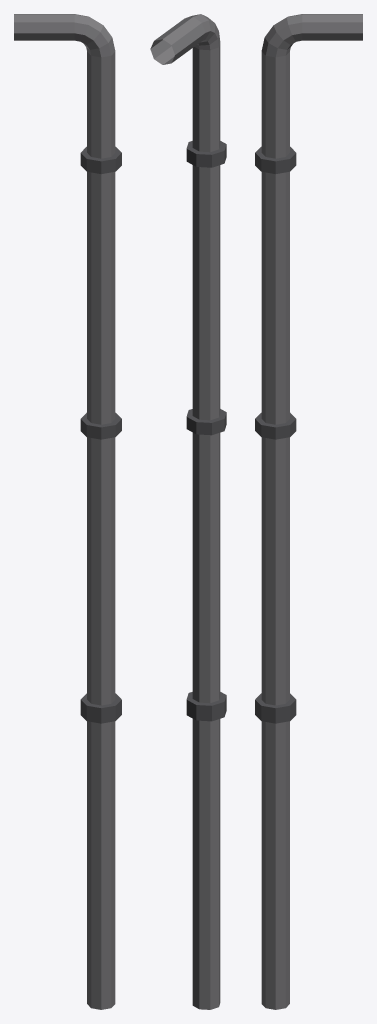
The model's file is pipe_small.glb.
3 renders of one model, left to right at view 1: azimuth 90°, elevation 25°; view 2: azimuth 150°, elevation 25°; view 3: azimuth 270°, elevation 25°, orthographic.
Visible parts, largest first — view 1: SM_Prop_Pipe_Small_01; view 2: SM_Prop_Pipe_Small_01; view 3: SM_Prop_Pipe_Small_01.
Part boxes in pixels (box(x1,y1,x2,y2)): SM_Prop_Pipe_Small_01: box(14, 14, 121, 1009); SM_Prop_Pipe_Small_01: box(150, 14, 226, 1009); SM_Prop_Pipe_Small_01: box(255, 14, 362, 1009).
Size of the model in its own units: 0.00151 by 0.04 by 0.00395.
Materials: 1 (1 with a texture image).
